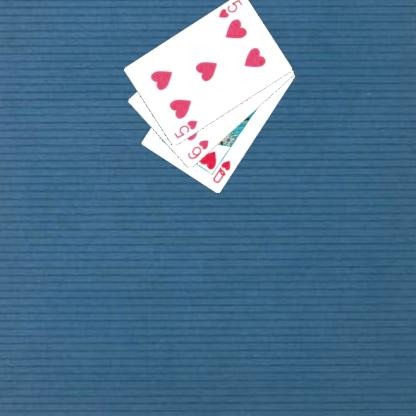5H: (170, 118, 198, 140), (216, 0, 244, 20)
6H: (185, 137, 210, 161)
QH: (210, 158, 232, 185)
